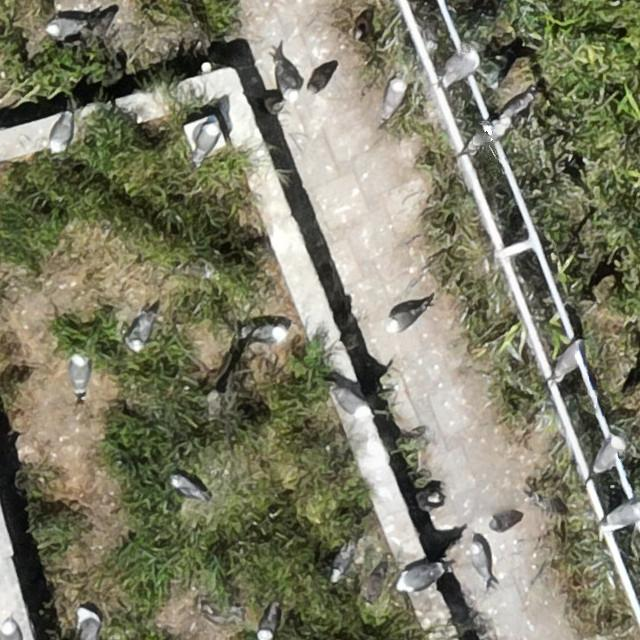umineko: (597, 498, 640, 532), (394, 560, 438, 592), (468, 540, 492, 585), (442, 55, 478, 81), (128, 315, 152, 348), (384, 79, 406, 112), (196, 122, 218, 154), (78, 608, 100, 640), (47, 18, 81, 38), (50, 117, 70, 151), (594, 440, 619, 467), (390, 306, 419, 329), (173, 476, 203, 498), (69, 356, 87, 392), (554, 344, 580, 368), (502, 95, 529, 117), (340, 392, 367, 414), (254, 325, 286, 343), (468, 127, 492, 149), (258, 608, 275, 638), (332, 548, 349, 575), (2, 620, 20, 640)
